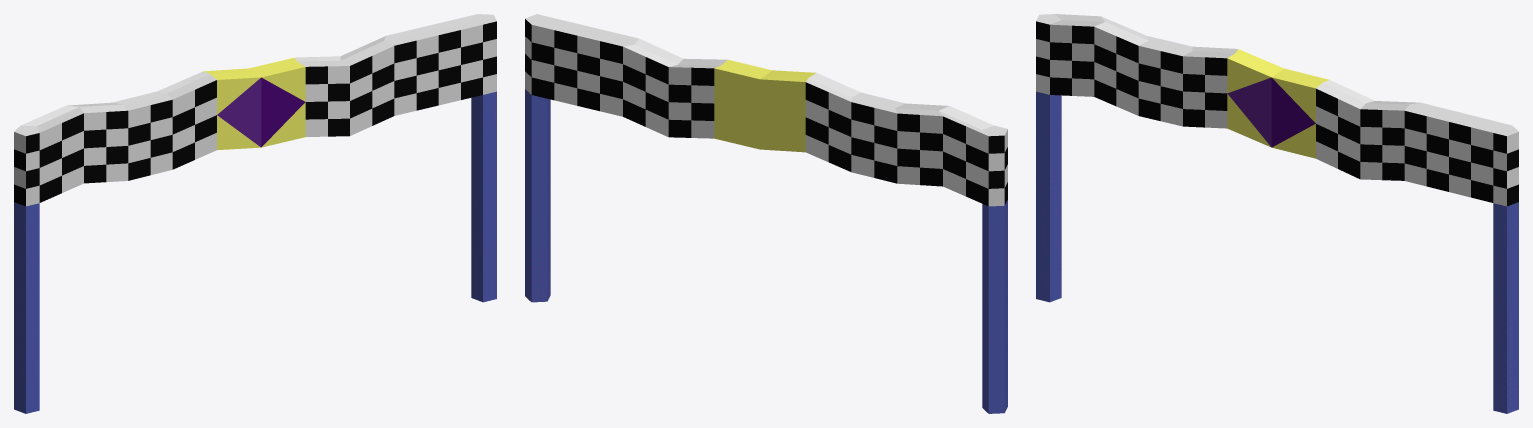
The model's file is pole.fbx.
The picture shows the model from 3 angles, left to right: view 1: azimuth 30°, elevation 25°; view 2: azimuth 150°, elevation 25°; view 3: azimuth 330°, elevation 25°; orthographic projection.
Visible parts, largest first — view 1: Cylinder; view 2: Cylinder; view 3: Cylinder.
Boxes of the visible parts, <box> form: Cylinder: <box>14,14,496,413</box>; Cylinder: <box>525,14,1007,413</box>; Cylinder: <box>1036,14,1518,413</box>.
Bounding box in the file's own units: 813 × 466 × 36.58.
